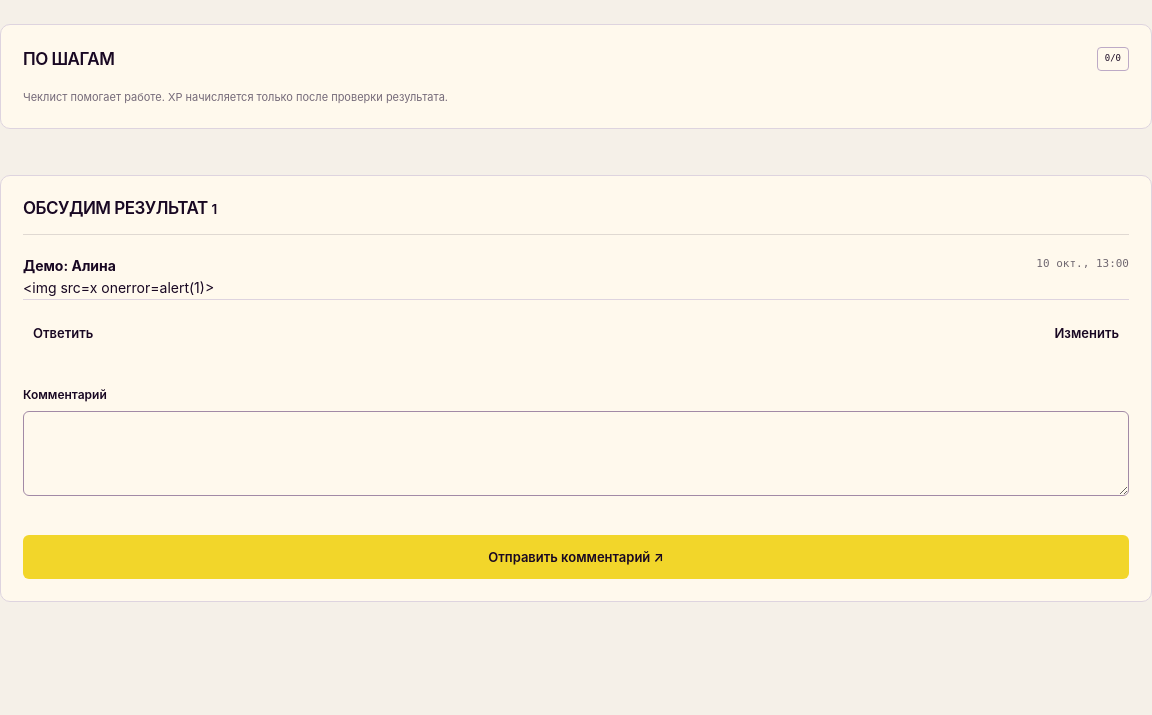
Scenario: workspace UI failures and persistence boundaries › retains a comment draft on failure and does not interpret HTML
Expected: the text "<img src=x onerror=alert(1)>" is shown, [23,279,214,296]
Type "Мой сохранённый черновик" into the text box labelled "Комментарий". click: (576, 454)
box: [23,412,1129,496]
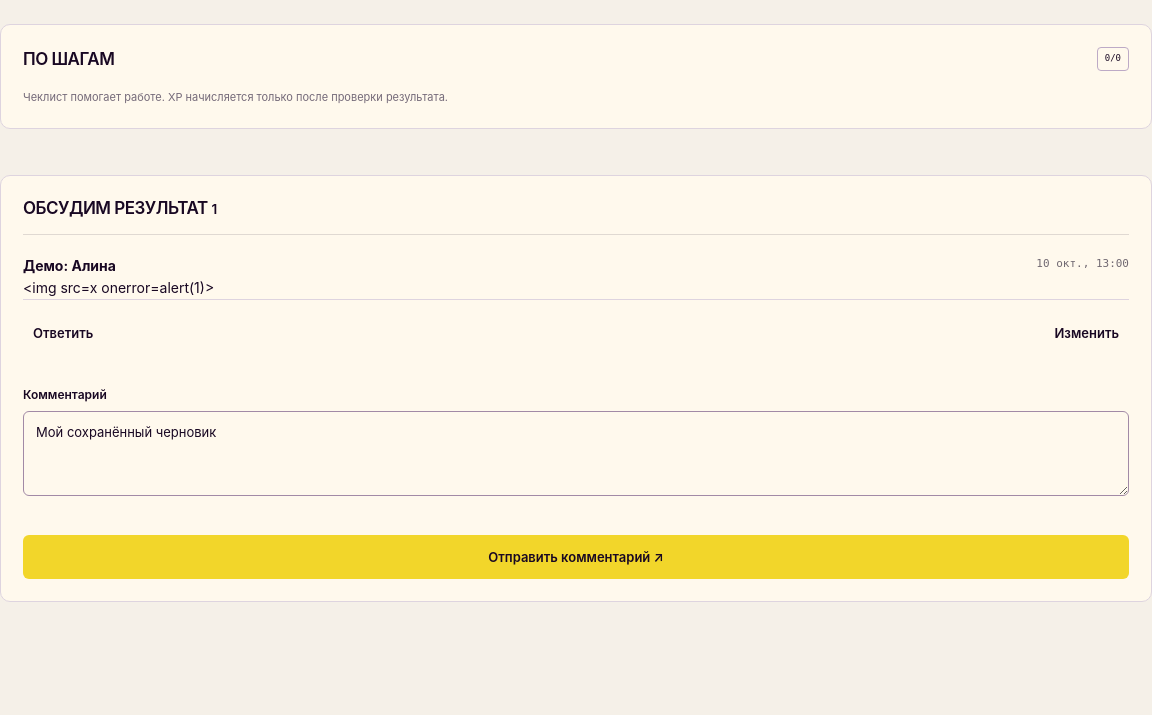
Click the button "Отправить комментарий ↗". click: (576, 557)
box: [23,535,1129,579]
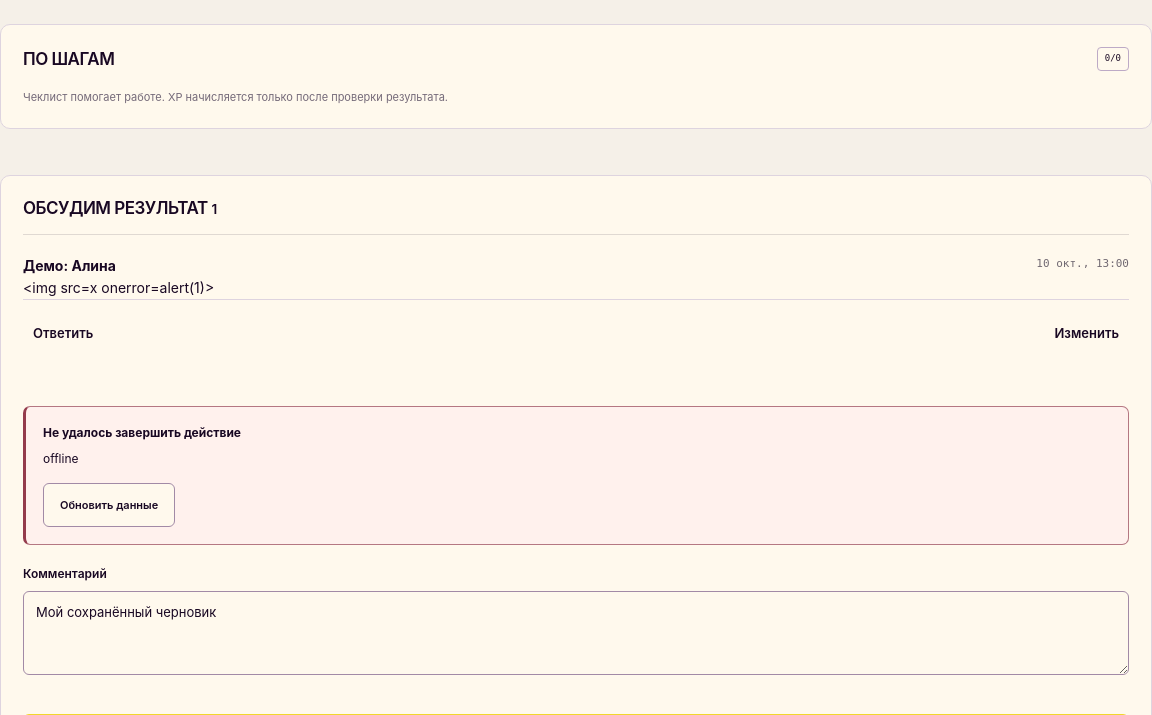
Expected: the text "offline" is shown, [43,452,78,466]
